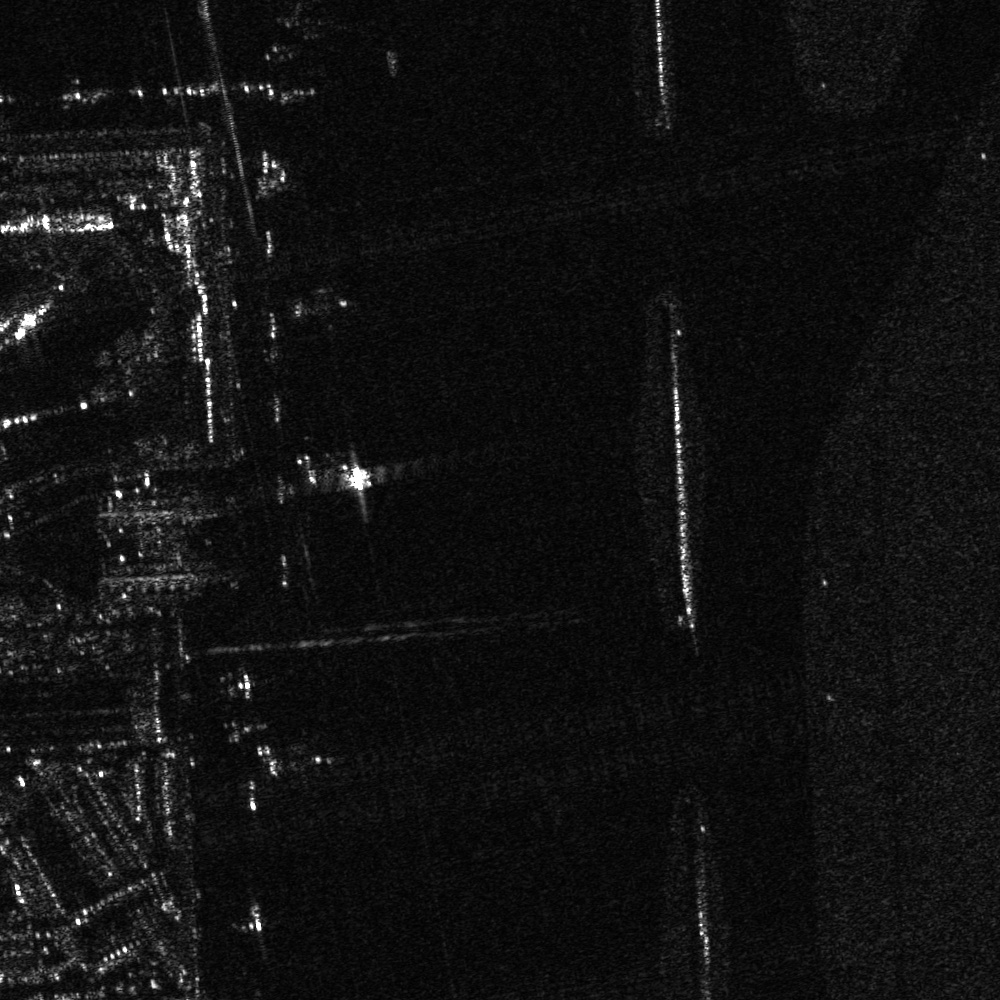A220: (283, 419, 402, 519), (238, 734, 344, 791), (285, 273, 362, 342)
A320/321: (233, 1, 365, 75)
